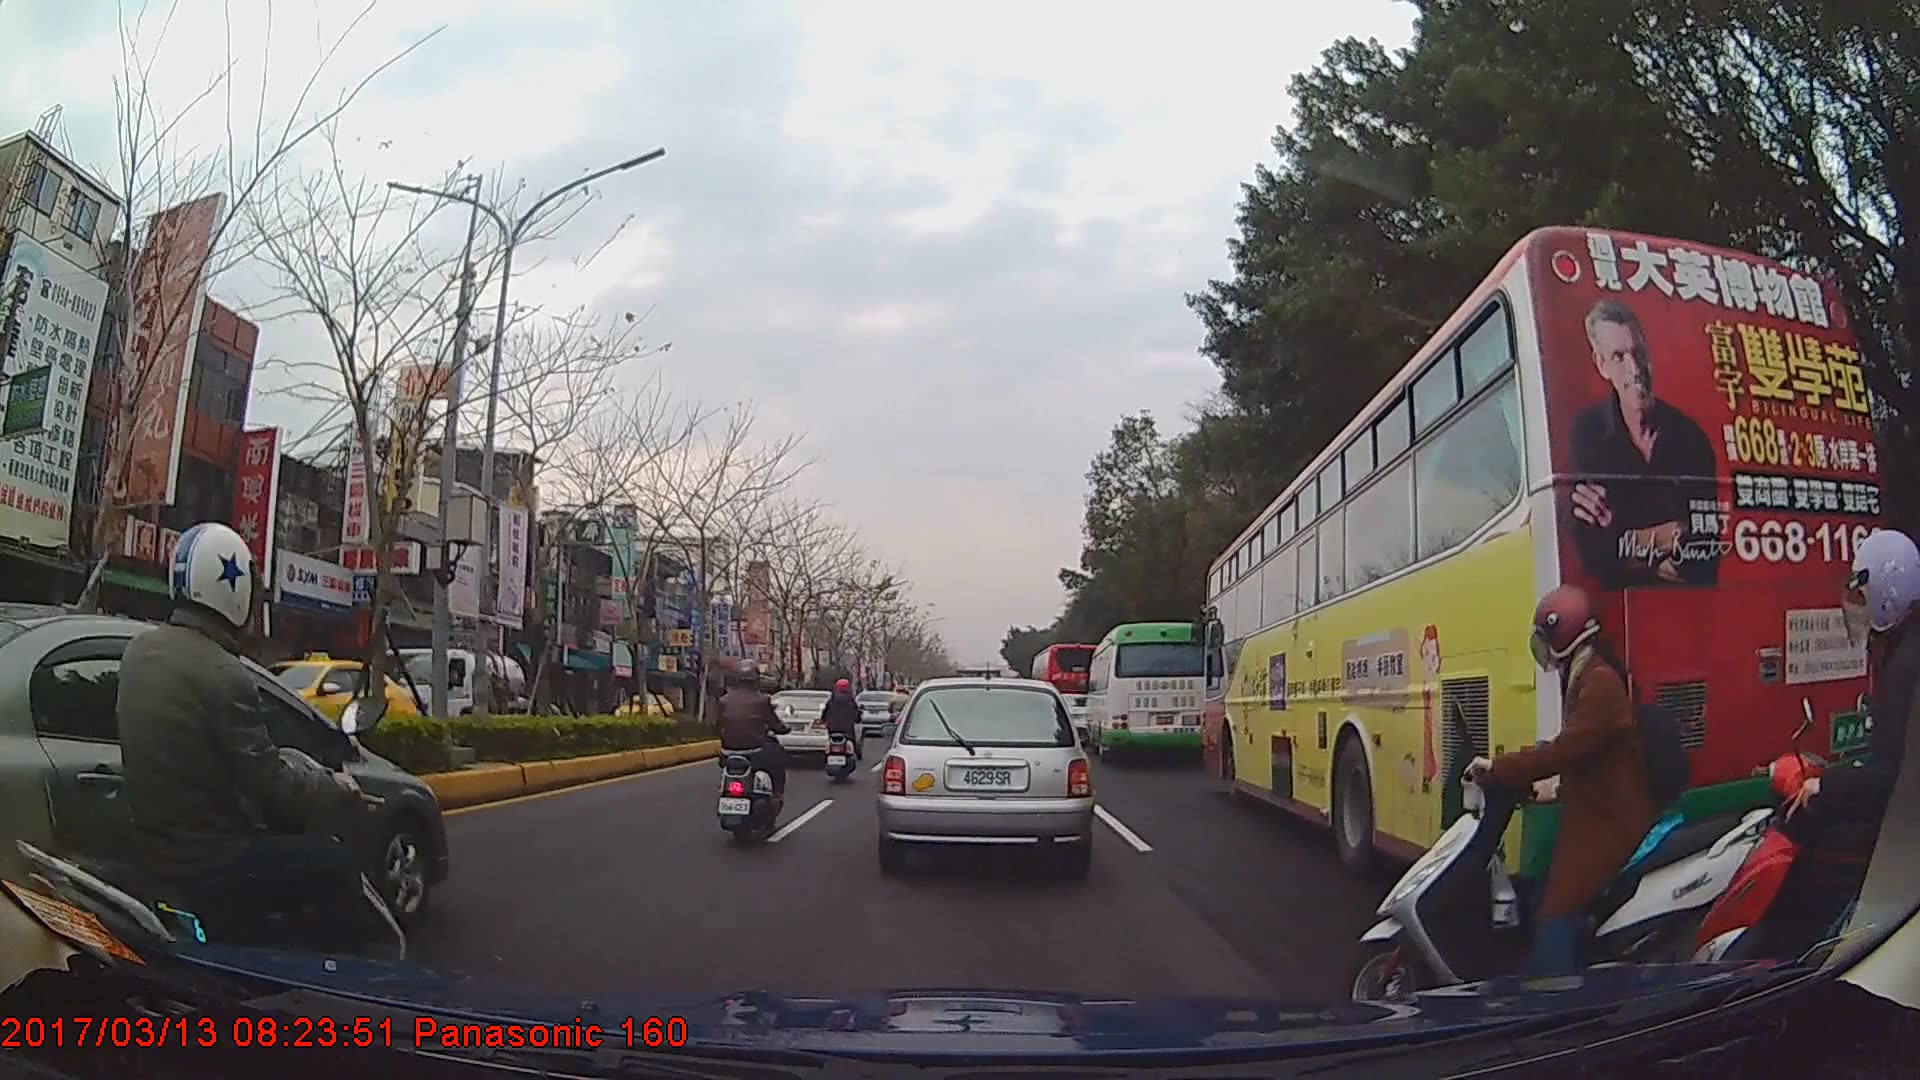rider: (1331, 580, 1773, 1035), (20, 517, 397, 1033), (1690, 526, 1920, 1060), (709, 658, 792, 850), (821, 678, 864, 786), (886, 684, 912, 739)
vehicle: (1204, 222, 1891, 889), (0, 595, 447, 965), (881, 671, 1092, 873), (194, 648, 424, 760), (355, 646, 544, 755), (1085, 619, 1212, 764), (758, 688, 861, 769), (1027, 639, 1103, 734), (607, 688, 677, 731)
